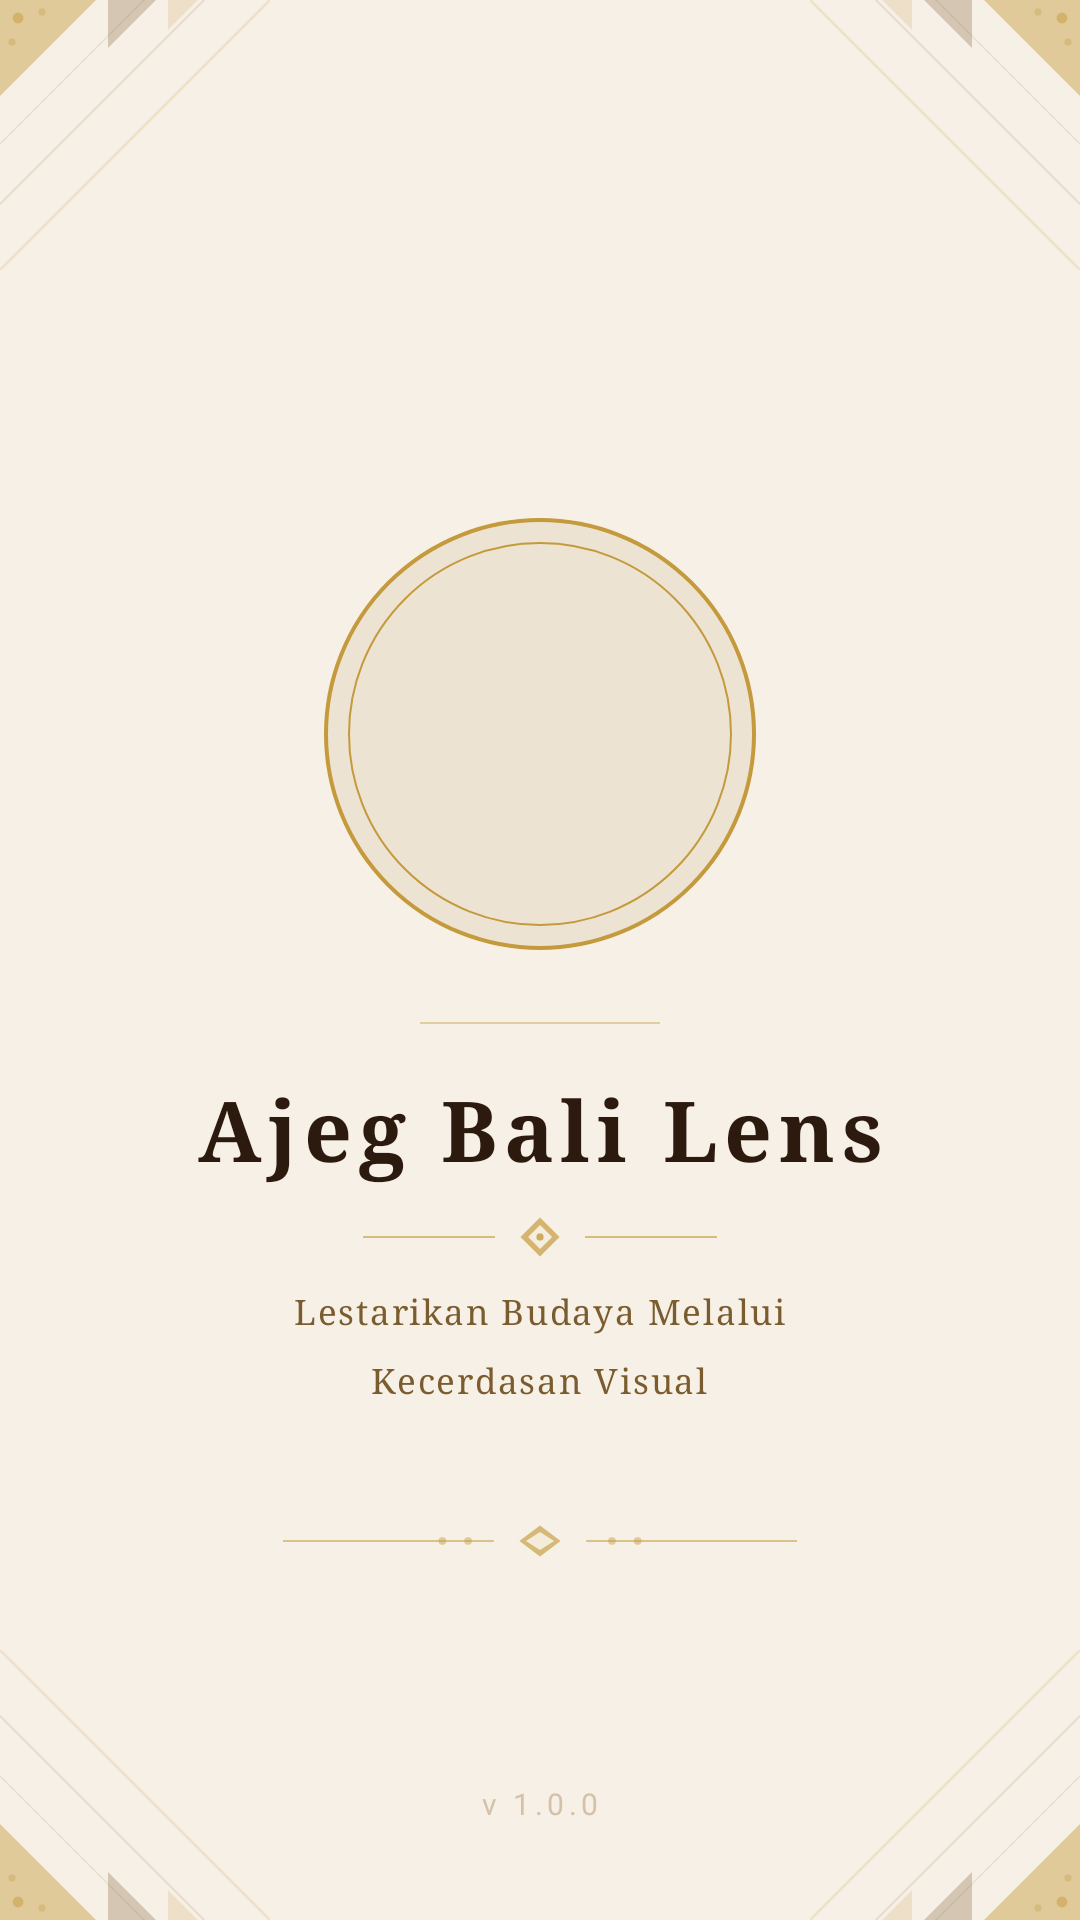

Locate icon controls on the screen. Image size 1080×1920, boxes as (x1, y1, x2, y2).
diamond: (521, 1218, 559, 1256)
